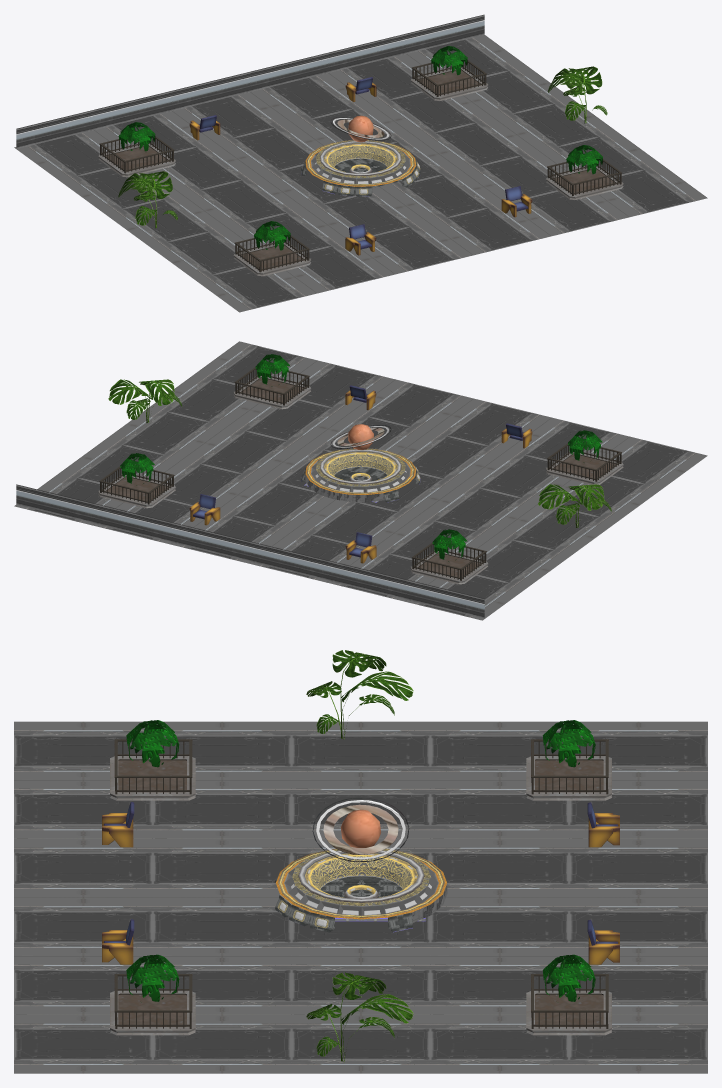
File: sc-garden.glb
3 views of the same model, one above another, from view 1: azimuth 30°, elevation 25°; view 2: azimuth 150°, elevation 25°; view 3: azimuth 270°, elevation 25° (orthographic). The views are drawn at different scales.
Visible parts, largest first — view 1: sc-garden; view 2: sc-garden; view 3: sc-garden.
Part boxes in pixels (x1,y1,x2,y2): sc-garden: (14, 14, 707, 312); sc-garden: (14, 341, 707, 620); sc-garden: (14, 650, 707, 1073).
Bounding box in the file's own units: 24.88 × 2.74 × 20.
Materials: 9 (9 with a texture image).
